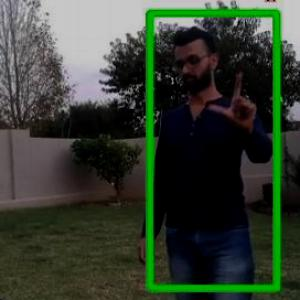land_hand: (206, 62, 263, 131)
